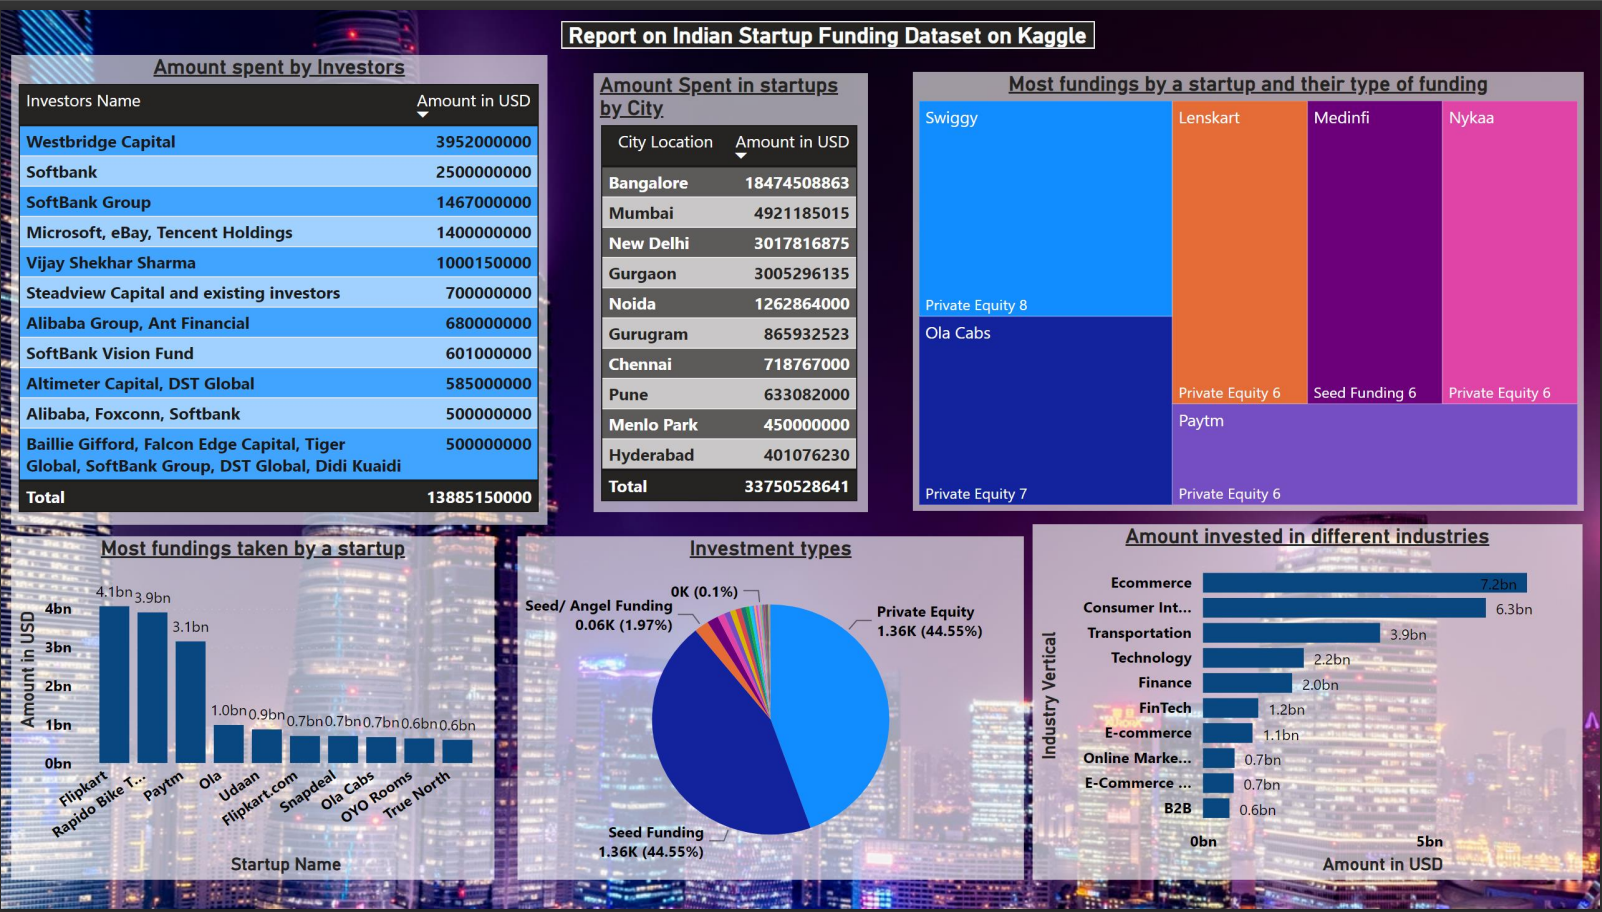

What the dashboard file says about the page in this screenshot:
{"tool":"powerbi","page":{"name":"Page 1","canvas":[1283,735],"ordinal":0},"visuals":[{"type":"tableEx","title":"Amount spent by Investors","fields":{"Values":["startup_funding.Investors Name","startup_funding.Amount in USD"]},"box":[8.8,37.7,429.9,388.4],"z":0},{"type":"clusteredColumnChart","title":"Most fundings taken by a startup ","fields":{"Category":["startup_funding.Startup Name"],"Y":["startup_funding.Amount in USD"]},"box":[9.2,436.2,387.7,283.8],"z":1000},{"type":"pieChart","title":"Investment types","fields":{"Category":["startup_funding.InvestmentnType"],"Series":["startup_funding.InvestmentnType"],"Y":["startup_funding.InvestmentnType"]},"box":[414.8,436.1,406,284.1],"z":2000},{"type":"clusteredBarChart","title":"Amount invested in different industries","fields":{"Category":["startup_funding.Industry Vertical"],"Y":["startup_funding.Amount in USD"]},"box":[828.5,425.8,440.8,294.2],"z":3000},{"type":"tableEx","title":"Amount Spent in startups by City","fields":{"Values":["startup_funding.City  Location","startup_funding.Amount in USD"]},"box":[476.4,52.8,220,363.2],"z":4000},{"type":"treemap","title":"Most fundings by a startup and their type of funding","fields":{"Values":["startup_funding.Startup Name"],"Group":["startup_funding.Startup Name"],"Details":["startup_funding.InvestmentnType"]},"box":[731.5,51.5,537.9,363.2],"z":5000},{"type":"textbox","title":"Report on Indian Startup Funding Dataset on Kaggle","box":[450,10.1,428,23],"z":6000}]}

Visuals, with their boxes in screenshot pixels (x1, y1, x2, y2), scaled from the page's 1283x735 canvas onto the 1602x912 screenshot:
"Amount spent by Investors" tableEx: (11,47,548,529)
"Most fundings taken by a startup " clusteredColumnChart: (11,541,496,893)
"Investment types" pieChart: (518,541,1025,894)
"Amount invested in different industries" clusteredBarChart: (1034,528,1585,893)
"Amount Spent in startups by City" tableEx: (595,66,870,516)
"Most fundings by a startup and their type of funding" treemap: (913,64,1585,515)
"Report on Indian Startup Funding Dataset on Kaggle" textbox: (562,13,1096,41)
